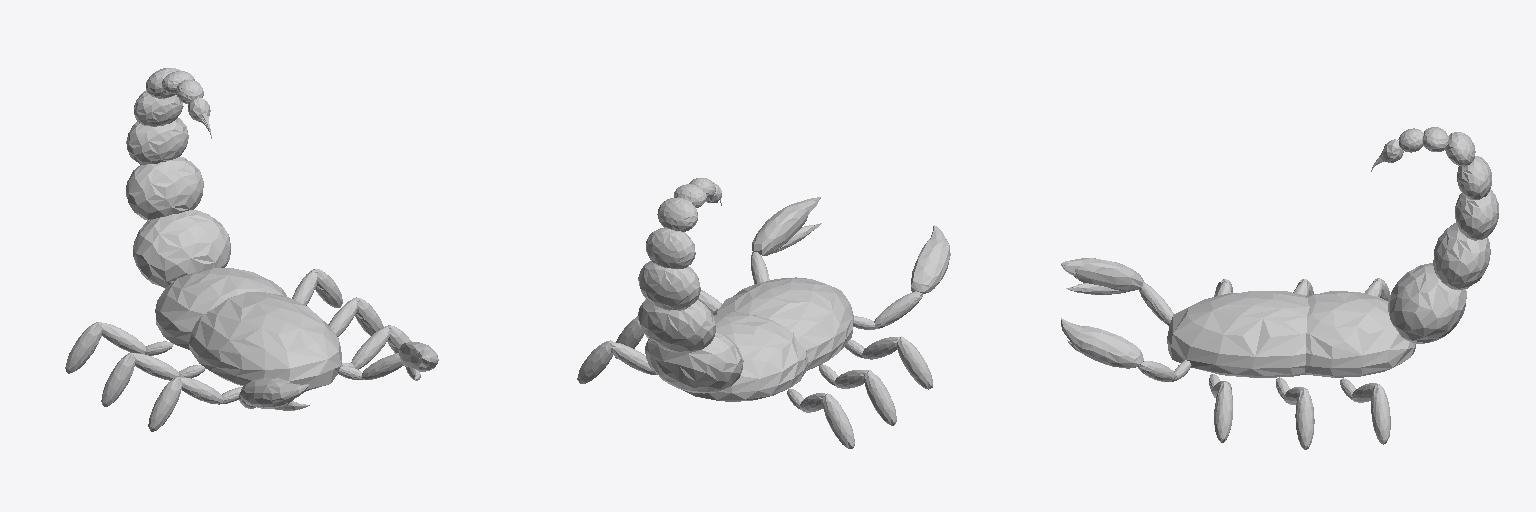
File: scorpion_000034.obj
The picture shows the model from 3 angles: view 1: azimuth 30°, elevation 25°; view 2: azimuth 150°, elevation 25°; view 3: azimuth 270°, elevation 25°; orthographic projection.
Parts seen in each view (by area): view 1: Sphere.010_Sphere.012, Sphere.002_Sphere.004, Sphere.011_Sphere.013, Sphere.003_Sphere.005, Sphere.030_Sphere.000, Sphere.004_Sphere.006, Sphere.014_Sphere.023, Sphere.012_Sphere.020, Sphere.013_Sphere.017, Sphere.000_Sphere.019, Sphere.016_Sphere.022, Sphere.005_Sphere.007 (+3 smaller); view 2: Sphere.010_Sphere.012, Sphere.011_Sphere.013, Sphere.002_Sphere.004, Sphere.030_Sphere.000, Sphere.003_Sphere.005, Sphere.004_Sphere.006, Sphere.014_Sphere.023, Sphere.005_Sphere.007, Sphere.012_Sphere.020, Sphere.028_Sphere.046, Sphere.006_Sphere.008, Sphere.018_Sphere.025 (+2 smaller); view 3: Sphere.010_Sphere.012, Sphere.011_Sphere.013, Sphere.002_Sphere.004, Sphere.030_Sphere.000, Sphere.003_Sphere.005, Sphere.004_Sphere.006, Sphere.028_Sphere.046, Sphere.005_Sphere.007, Sphere.014_Sphere.023, Sphere.000_Sphere.019, Sphere.012_Sphere.020, Sphere.006_Sphere.008 (+1 smaller).
Boxes of the visible parts, x1,y1,x2,y2 form: Sphere.010_Sphere.012: [189, 292, 341, 391]; Sphere.002_Sphere.004: [133, 210, 230, 287]; Sphere.011_Sphere.013: [155, 268, 286, 349]; Sphere.003_Sphere.005: [126, 157, 203, 220]; Sphere.030_Sphere.000: [240, 342, 438, 408]; Sphere.004_Sphere.006: [126, 118, 188, 164]; Sphere.014_Sphere.023: [65, 269, 342, 373]; Sphere.012_Sphere.020: [101, 297, 383, 406]; Sphere.013_Sphere.017: [180, 326, 389, 404]; Sphere.000_Sphere.019: [148, 325, 411, 431]; Sphere.016_Sphere.022: [133, 298, 357, 380]; Sphere.005_Sphere.007: [134, 90, 183, 126]; Sphere.010_Sphere.012: [713, 277, 853, 370]; Sphere.011_Sphere.013: [681, 312, 807, 401]; Sphere.002_Sphere.004: [645, 329, 743, 393]; Sphere.030_Sphere.000: [752, 197, 950, 293]; Sphere.003_Sphere.005: [638, 299, 715, 353]; Sphere.004_Sphere.006: [638, 261, 700, 310]; Sphere.014_Sphere.023: [577, 340, 854, 448]; Sphere.005_Sphere.007: [646, 228, 695, 268]; Sphere.012_Sphere.020: [615, 316, 896, 425]; Sphere.028_Sphere.046: [751, 252, 922, 328]; Sphere.006_Sphere.008: [657, 197, 697, 231]; Sphere.018_Sphere.025: [610, 342, 824, 412]; Sphere.010_Sphere.012: [1167, 291, 1309, 377]; Sphere.011_Sphere.013: [1305, 291, 1415, 377]; Sphere.002_Sphere.004: [1388, 263, 1466, 343]; Sphere.030_Sphere.000: [1061, 258, 1143, 368]; Sphere.003_Sphere.005: [1433, 223, 1490, 289]; Sphere.004_Sphere.006: [1455, 189, 1498, 240]; Sphere.028_Sphere.046: [1138, 282, 1176, 381]; Sphere.005_Sphere.007: [1457, 156, 1491, 199]; Sphere.014_Sphere.023: [1371, 278, 1390, 444]; Sphere.000_Sphere.019: [1214, 279, 1232, 442]; Sphere.012_Sphere.020: [1295, 279, 1314, 449]; Sphere.006_Sphere.008: [1445, 132, 1475, 166].
Size of the model in its own units: 0.9384 by 0.8046 by 1.26.